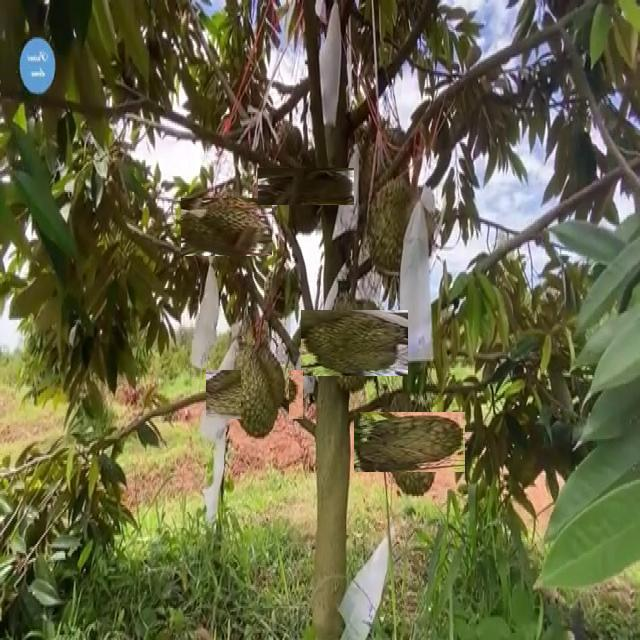durian: (362, 167, 439, 279), (311, 299, 398, 386), (367, 399, 452, 485), (189, 189, 264, 264), (218, 358, 291, 432), (273, 153, 340, 220), (240, 338, 288, 421), (271, 118, 306, 202)
